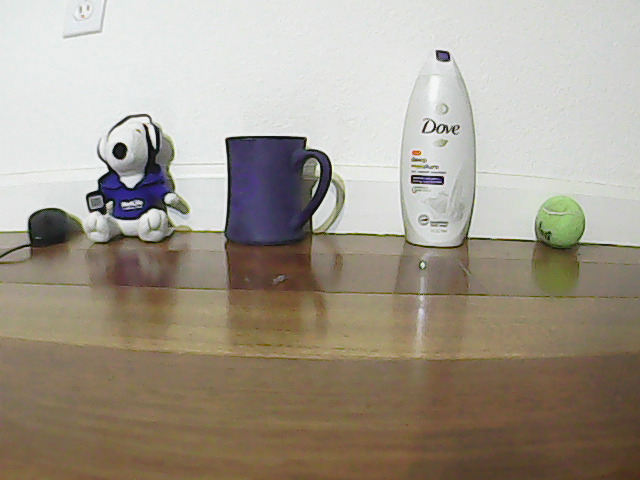ball: (532, 194, 592, 254)
mouse: (25, 202, 69, 247)
mug: (220, 122, 337, 248)
snoopy: (89, 119, 194, 245)
soap: (405, 38, 479, 253)
